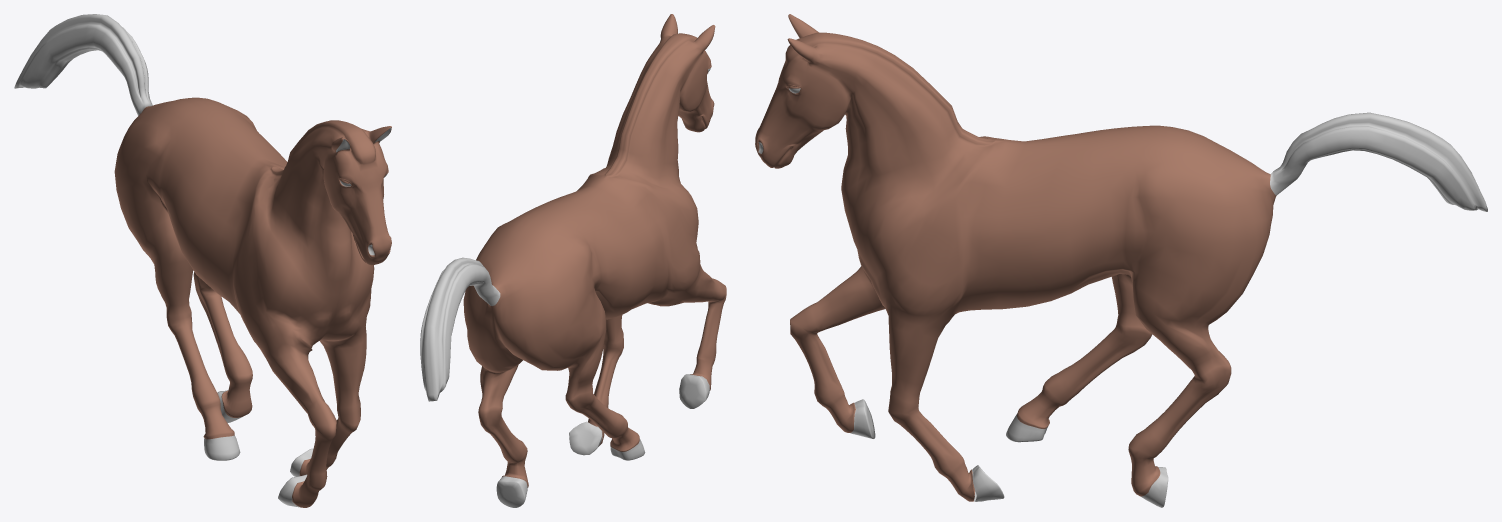
The model's file is horse_obj_17.obj.
3 renders of one model, left to right at view 1: azimuth 30°, elevation 25°; view 2: azimuth 150°, elevation 25°; view 3: azimuth 270°, elevation 25°, orthographic. The views are drawn at different scales.
Visible parts, largest first — view 1: Figure_1; view 2: Figure_1; view 3: Figure_1.
Part boxes in pixels (bbox=[...]): Figure_1: bbox=[14, 14, 391, 507]; Figure_1: bbox=[420, 14, 726, 507]; Figure_1: bbox=[755, 14, 1487, 507].
Bounding box in the file's own units: 0.2421 × 0.7962 × 1.14.
